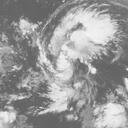cyclone: (48, 5, 117, 68)
